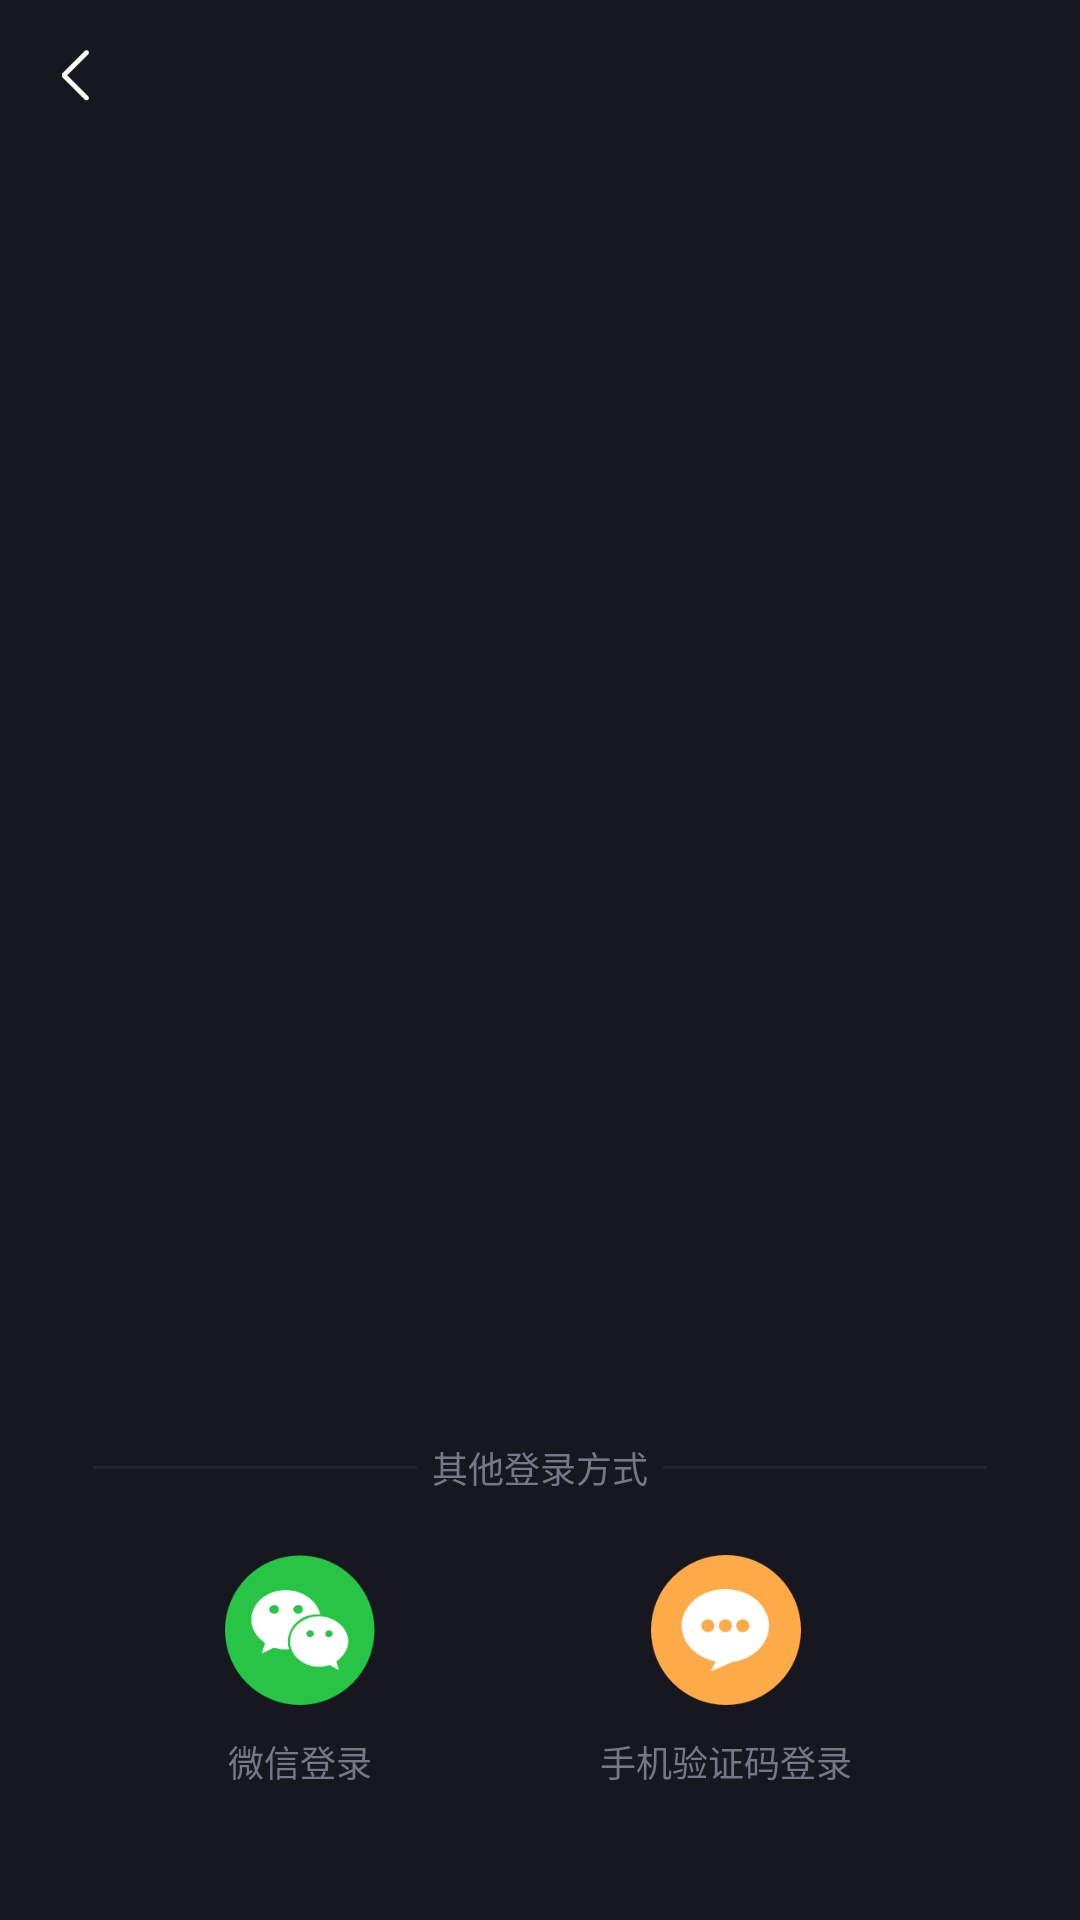

Named icons in this screenshot (1080x1920) and their bounding boxes, BBox(x1, y1, x2, y2):
arr left: BBox(62, 50, 89, 101)
phone message: BBox(651, 1555, 801, 1705)
